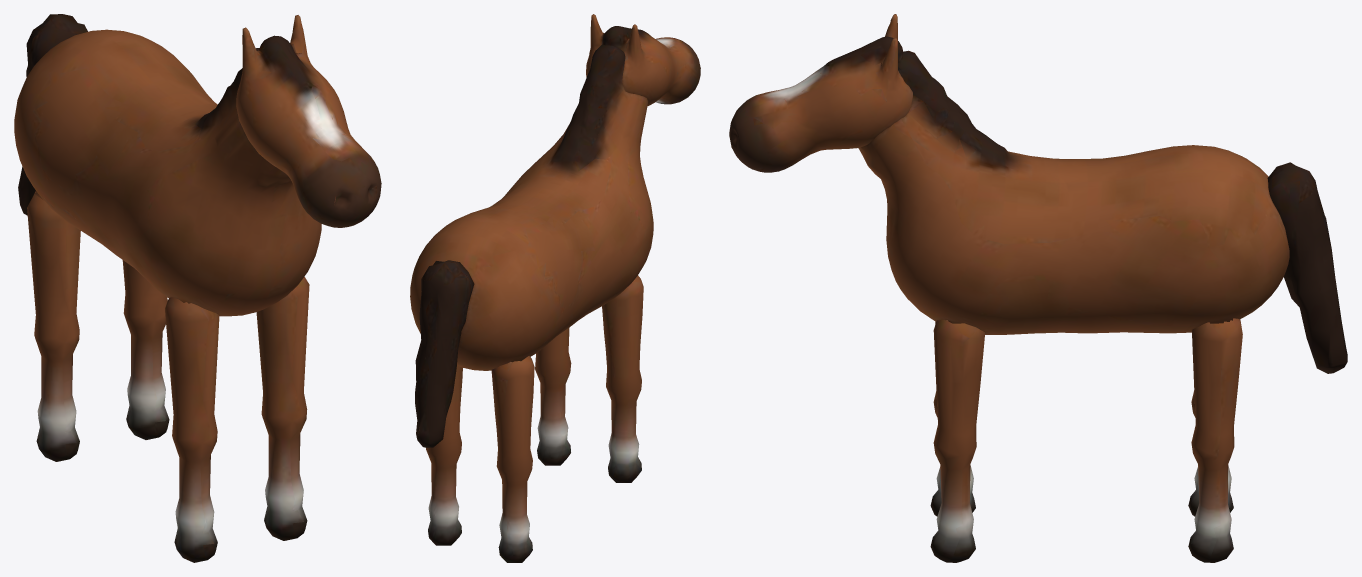
File: animal_horse.glb
3 views of the same model, side by side, from view 1: azimuth 30°, elevation 25°; view 2: azimuth 150°, elevation 25°; view 3: azimuth 270°, elevation 25° (orthographic). The views are drawn at different scales.
Parts seen in each view (by area): view 1: animal_horse, head, leg0, leg2, leg1, leg3, tail; view 2: animal_horse, tail, leg2, leg0, head, leg3, leg1; view 3: animal_horse, head, leg3, leg1, tail.
Part boxes in pixels (box(x1,y1,x2,y2)): animal_horse: box(14, 29, 321, 316); head: box(236, 15, 381, 227); leg0: box(165, 297, 219, 562); leg2: box(27, 191, 80, 461); leg1: box(256, 277, 309, 540); leg3: box(122, 260, 169, 439); tail: box(18, 14, 87, 215); animal_horse: box(410, 44, 653, 370); tail: box(415, 260, 474, 447); leg2: box(491, 356, 534, 562); leg0: box(602, 275, 643, 482); head: box(586, 14, 700, 106); leg3: box(426, 365, 462, 545); leg1: box(535, 327, 571, 465); animal_horse: box(858, 50, 1289, 334); head: box(729, 14, 912, 172); leg3: box(1188, 318, 1242, 562); leg1: box(930, 319, 984, 562); tail: box(1267, 162, 1347, 373).
Bounding box in the file's own units: 0.2211 × 0.7049 × 0.7675.
Materials: 1 (1 with a texture image).
